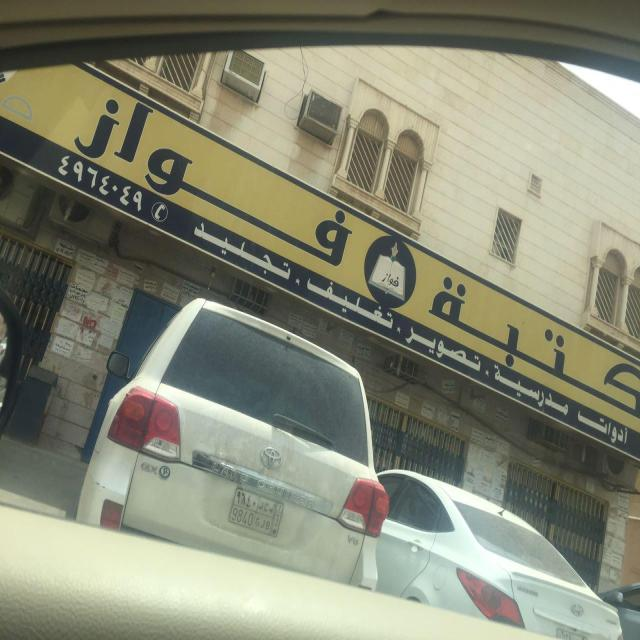license_plate: (228, 481, 286, 539)
